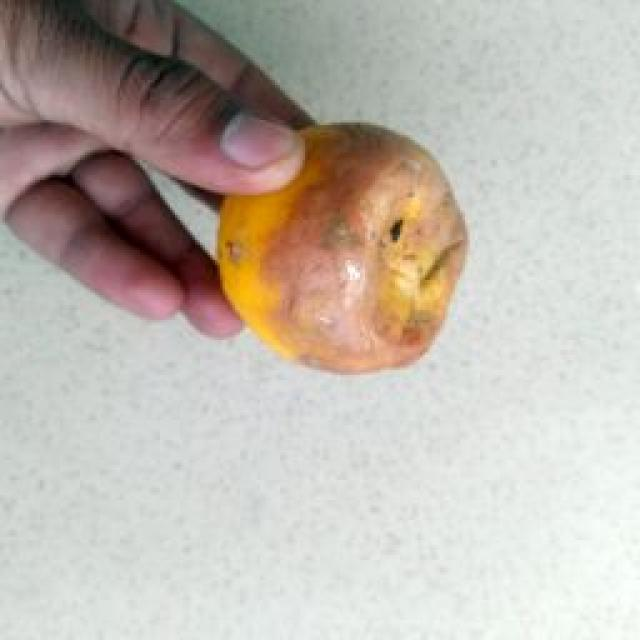Bad_Orange: (221, 124, 468, 372)
